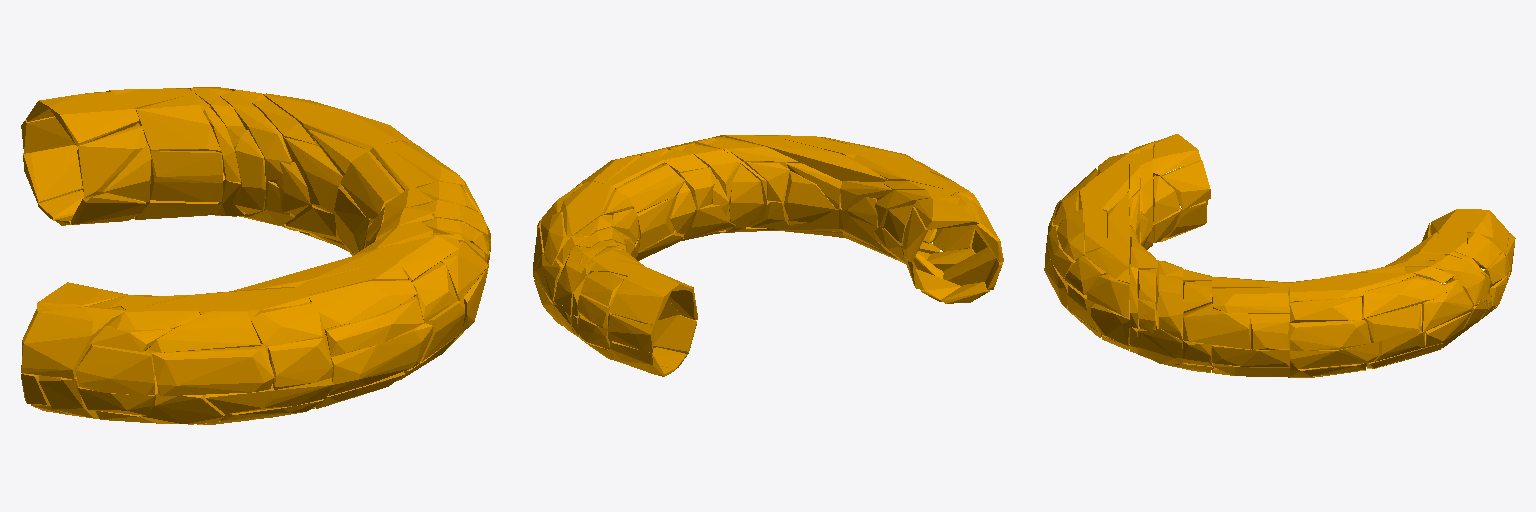
URDF robot description (donut):
<?xml version="1.0"?>
<robot name="donut">

  <link name="base_link">
    <visual>
      <geometry>
        <mesh filename="package://physical-experiment/downsampled4blender/donut-120-vhacd.obj" scale="10 10 10"/>
      </geometry>
    </visual>
    <collision>
      <geometry>
        <mesh filename="package://physical-experiment/downsampled4blender/donut-120-vhacd.obj" scale="10 10 10"/>
      </geometry>
    </collision>
  </link>

</robot>

--- Render facts (derived) ---
The picture shows the robot from 3 angles, left to right: view 1: azimuth 30°, elevation 25°; view 2: azimuth 150°, elevation 25°; view 3: azimuth 270°, elevation 25°; orthographic projection.
Model donut with 1 links and 0 joints (none), rooted at base_link, posed all joints at 0.
Links seen in each view (by area): view 1: base_link; view 2: base_link; view 3: base_link.
Boxes of the visible links, x1=… form: base_link: x1=21, y1=87, x2=490, y2=424; base_link: x1=533, y1=135, x2=1003, y2=376; base_link: x1=1044, y1=134, x2=1515, y2=377.
Bounding box of the posed robot: 0.9821 × 1.05 × 0.2061 m (x, y, z).
Meshes: 1 distinct files referenced, 1 mesh visuals loaded (1 OBJ).